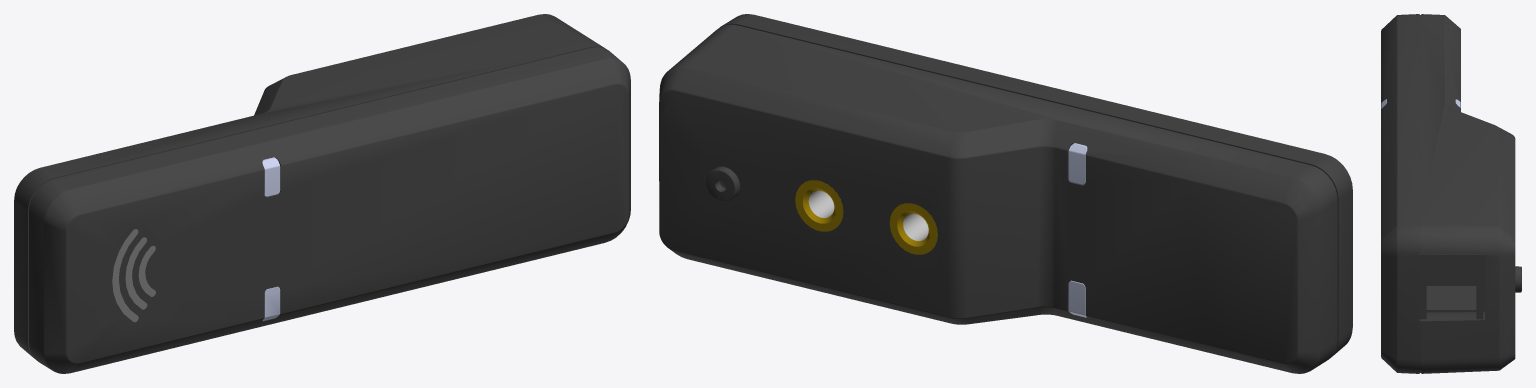
Rendered from v5-robot-radio.glb.
3 views of the same model, side by side, from view 1: azimuth 30°, elevation 25°; view 2: azimuth 150°, elevation 25°; view 3: azimuth 270°, elevation 25° (orthographic). The views are drawn at different scales.
Parts seen in each view (by area): view 1: 276-4831-101 Rev3 - Overmold, 276-4831-102 Rev3, 276-4831-103 Rev5; view 2: 276-4831-101 Rev3 - Overmold, 276-4831-008 Rev8, 276-4831-103 Rev5; view 3: 276-4831-101 Rev3 - Overmold.
Boxes of the visible parts, x1,y1,x2,y2 form: 276-4831-101 Rev3 - Overmold: (14,14,630,373); 276-4831-102 Rev3: (112,229,155,322); 276-4831-103 Rev5: (262,157,280,320); 276-4831-101 Rev3 - Overmold: (659,14,1352,373); 276-4831-008 Rev8: (795,180,937,254); 276-4831-103 Rev5: (1068,143,1087,317); 276-4831-101 Rev3 - Overmold: (1381,14,1521,373).
Size of the model in its own units: 0.0845 by 0.0255 by 0.022.
